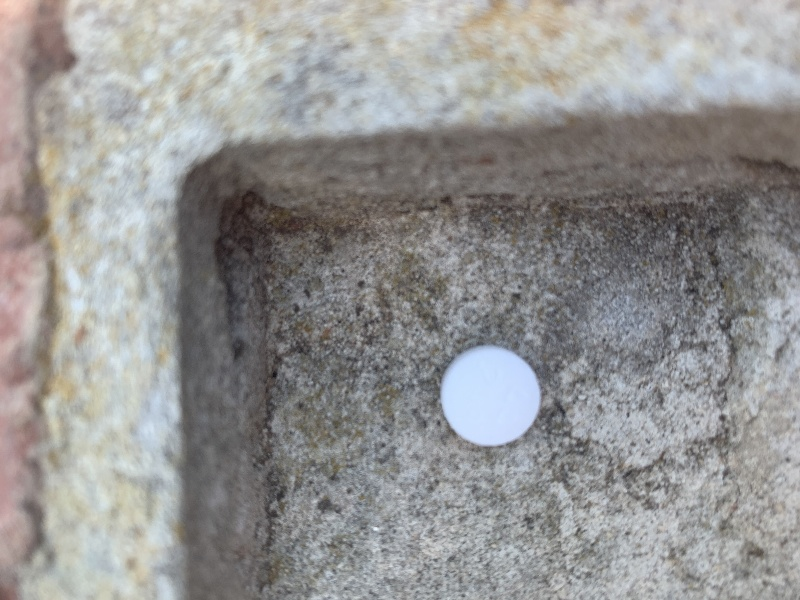Aspirin: (436, 341, 548, 452)
